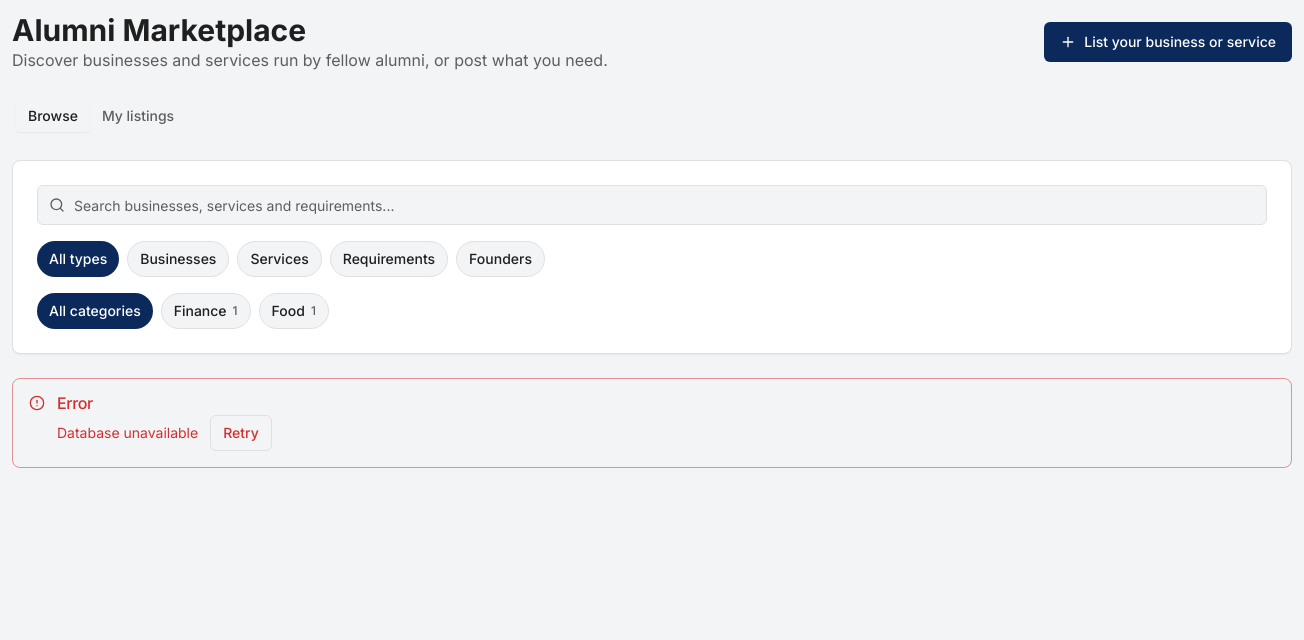
Test: Marketplace page — browse › shows the server error with a retry
Expected: the text "Database unavailable" is shown, [57,423,198,443]
Click the button "Retry". click: {"x": 241, "y": 433}
box: [210,415,272,451]
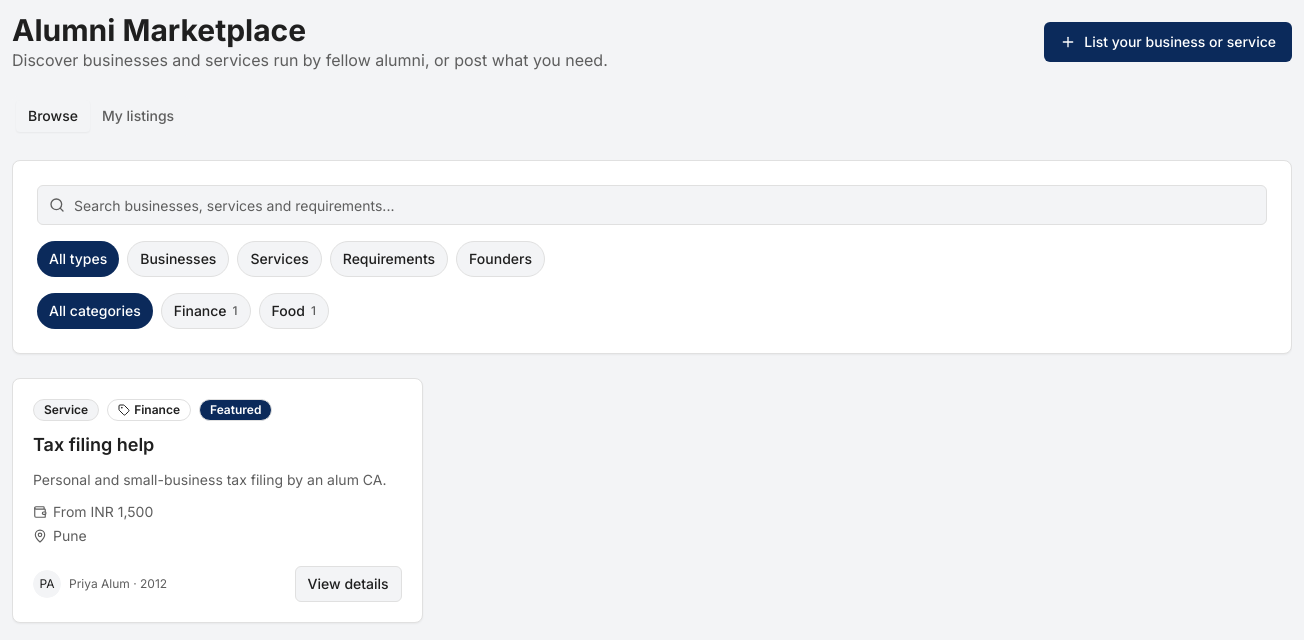
Expected: the heading "Tax filing help" is shown, [33,433,154,458]
